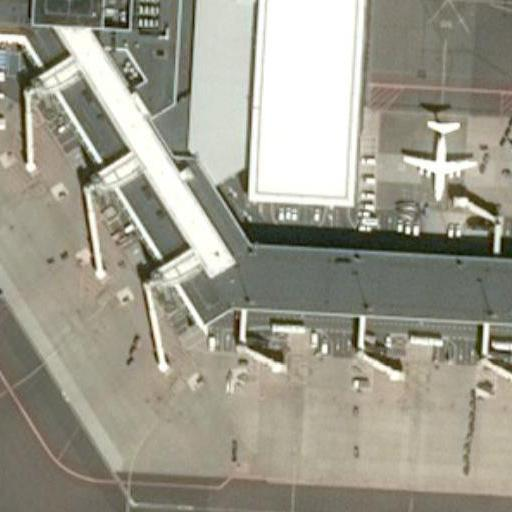Aircraft: (397, 109, 483, 203), (500, 92, 512, 214)
